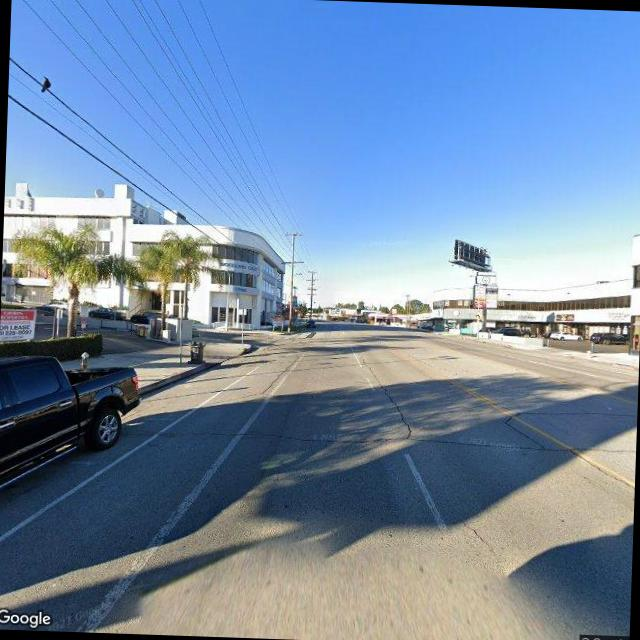crack: (122, 421, 629, 465), (357, 353, 414, 438), (456, 518, 502, 556)
